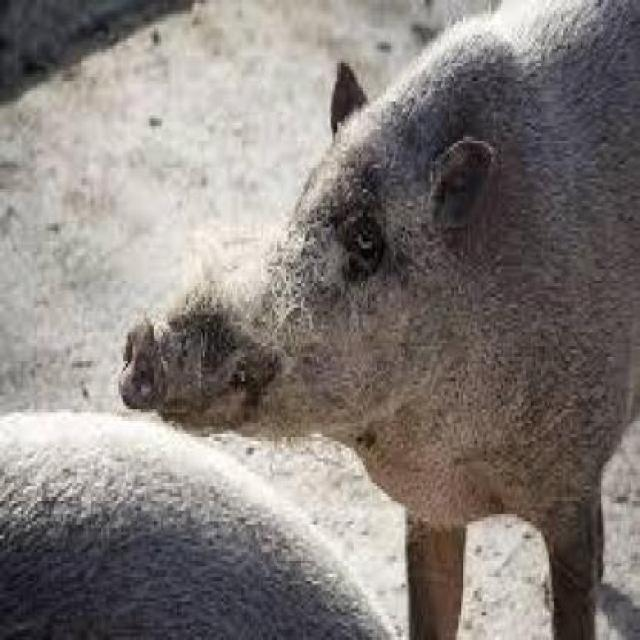wildboar: (111, 0, 640, 640), (0, 404, 417, 640)
